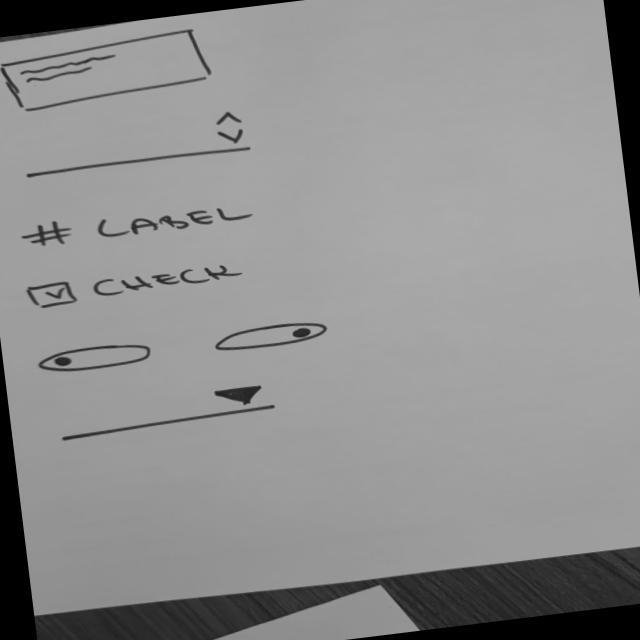checkbox: (19, 256, 257, 313)
label: (18, 196, 258, 254)
number-input: (13, 105, 259, 185)
select: (54, 378, 282, 447)
textarea: (1, 25, 218, 118)
toggle: (33, 339, 159, 380), (211, 316, 335, 356)
